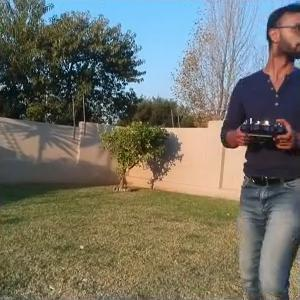follow: (217, 0, 299, 299)
